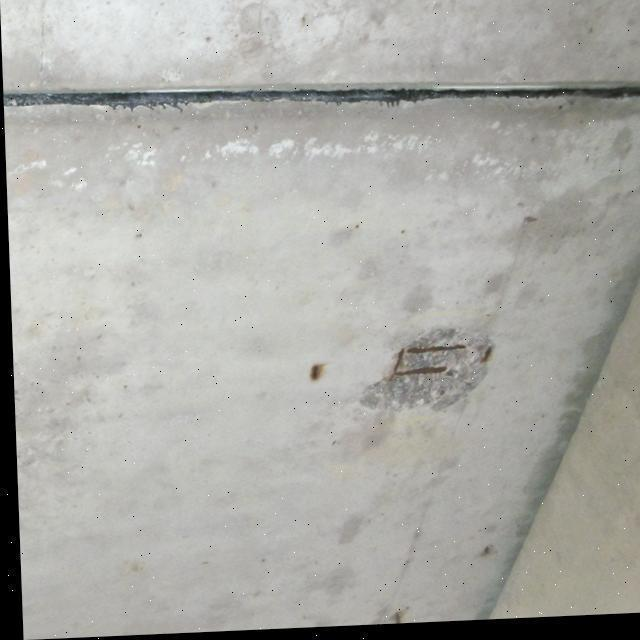D10: (366, 330, 493, 417)
